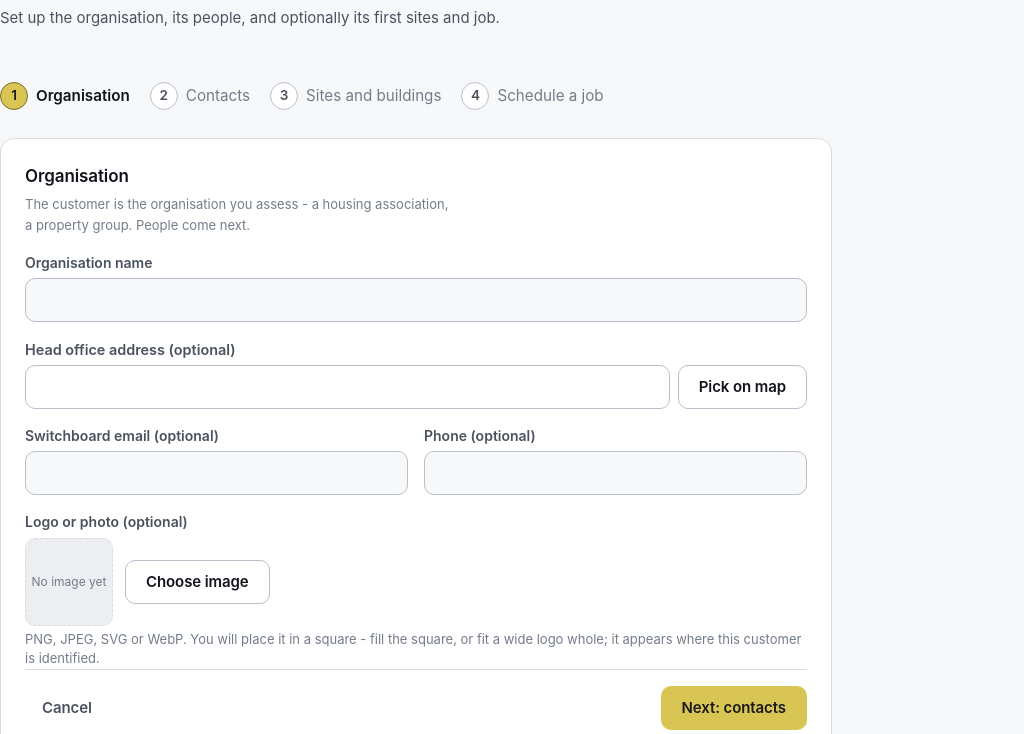
it: CustomerWizard › blocks step 1 without an organisation name
(page scrolled)
Click the button "Next: contacts".
click(734, 708)  # box [660,686,807,730]
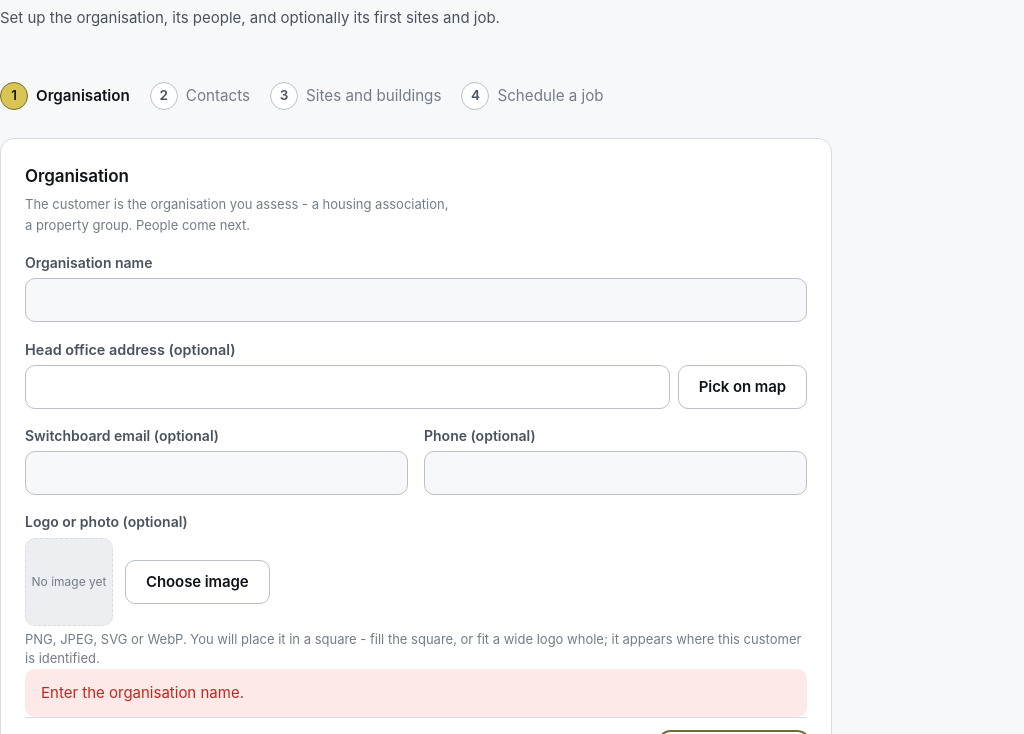
Result: the message reads "Enter the organisation name." at [41,683,244,702]
